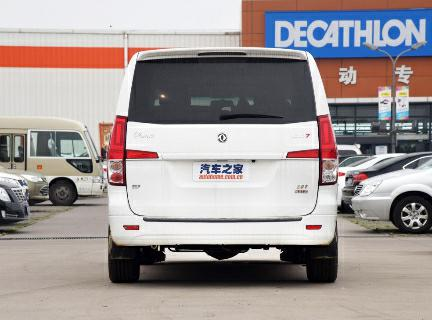东风风行-风行CM7: (99, 41, 349, 293)
